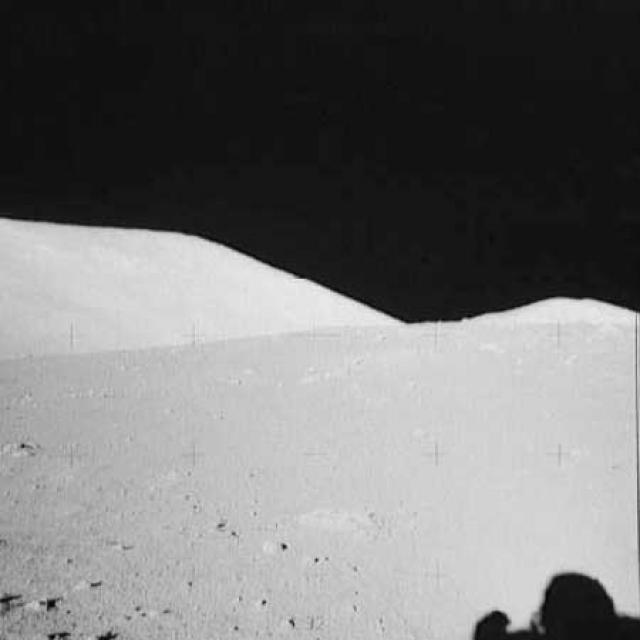rock: (297, 496, 380, 540), (0, 433, 44, 467), (20, 590, 67, 620), (258, 533, 292, 563), (64, 569, 94, 600)
